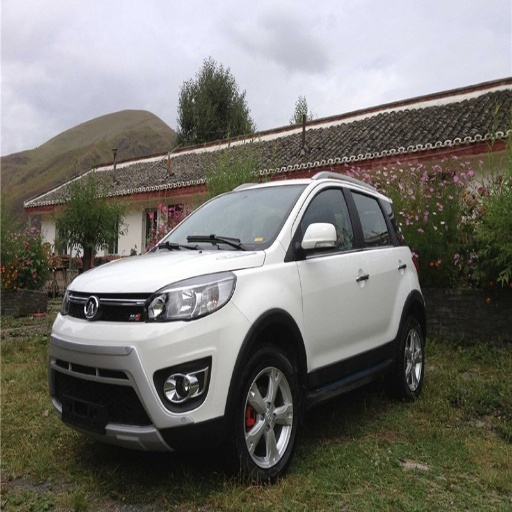front_bumper: (48, 282, 251, 444)
front_glass: (157, 188, 303, 249)
front_left_door: (294, 182, 369, 385)
